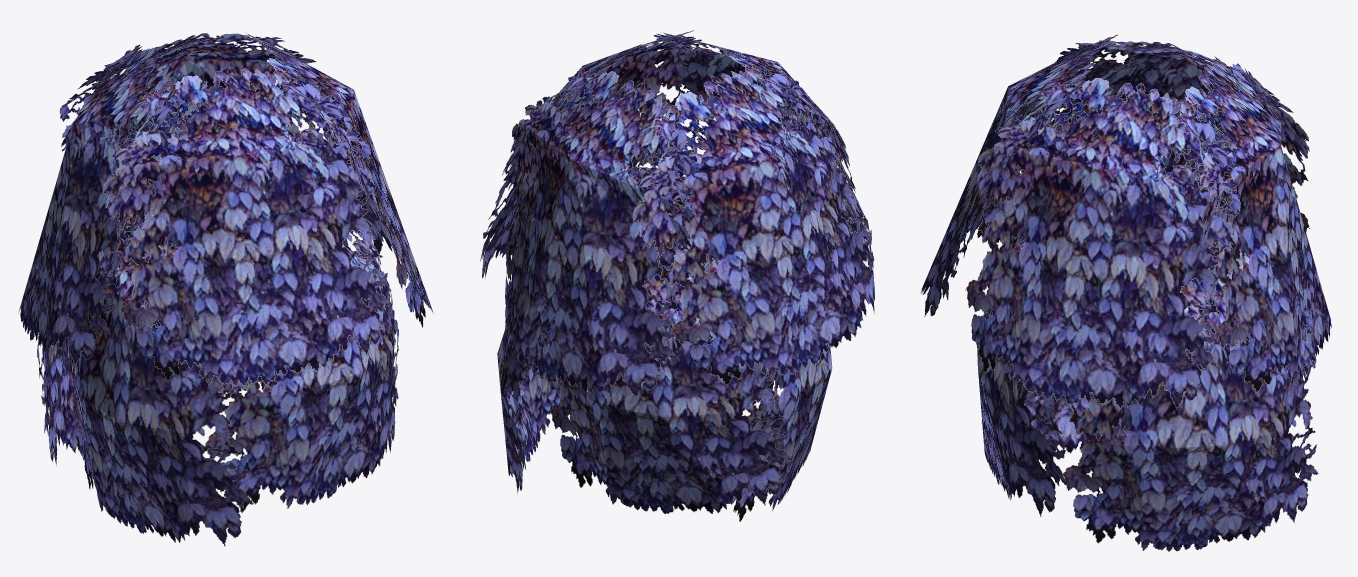
File: PMW_TREE.fbx
The picture shows the model from 3 angles, left to right: view 1: azimuth 30°, elevation 25°; view 2: azimuth 150°, elevation 25°; view 3: azimuth 270°, elevation 25°; orthographic projection. The views are drawn at different scales.
Parts seen in each view (by area): view 1: noname_4; view 2: noname_4; view 3: noname_4.
Part boxes in pixels (x1,y1,x2,y2): noname_4: (18, 33, 433, 546); noname_4: (480, 30, 874, 521); noname_4: (920, 34, 1331, 551).
Bounding box in the file's own units: 3654 × 4354 × 3648.
